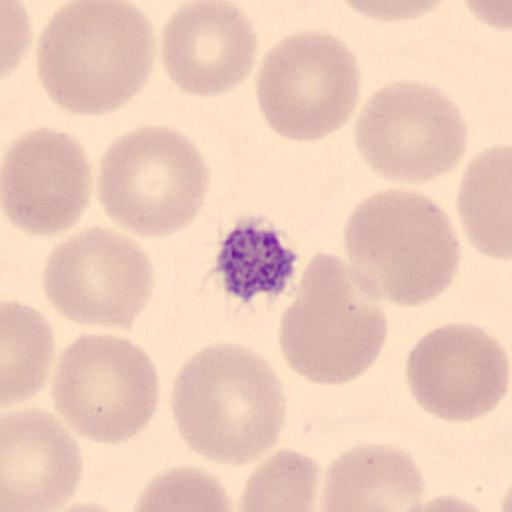Platelet: (214, 213, 302, 305)
RBC: (277, 251, 390, 387), (169, 340, 289, 467), (342, 187, 463, 308), (35, 0, 157, 117), (97, 123, 212, 239), (49, 332, 161, 446), (253, 28, 363, 144), (353, 78, 469, 186), (42, 224, 156, 332), (405, 322, 511, 424), (2, 124, 95, 238), (159, 0, 259, 99), (2, 406, 85, 512), (319, 440, 425, 512), (455, 143, 512, 260), (2, 298, 56, 412), (237, 447, 322, 512), (128, 464, 236, 512), (332, 0, 456, 23), (0, 0, 32, 80), (389, 492, 500, 512), (458, 0, 512, 34), (36, 500, 134, 512)
